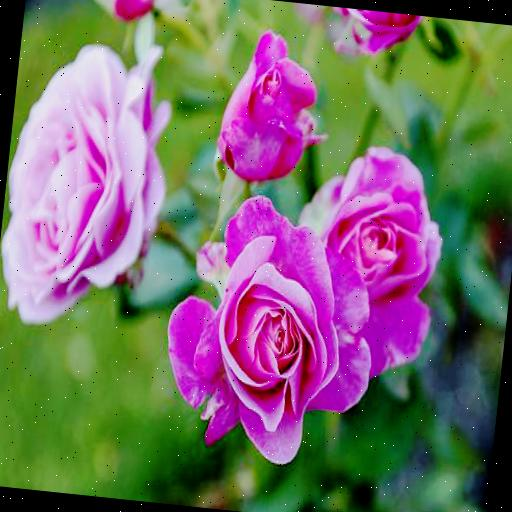rose: (156, 186, 387, 473), (282, 134, 450, 390), (214, 25, 335, 195)
